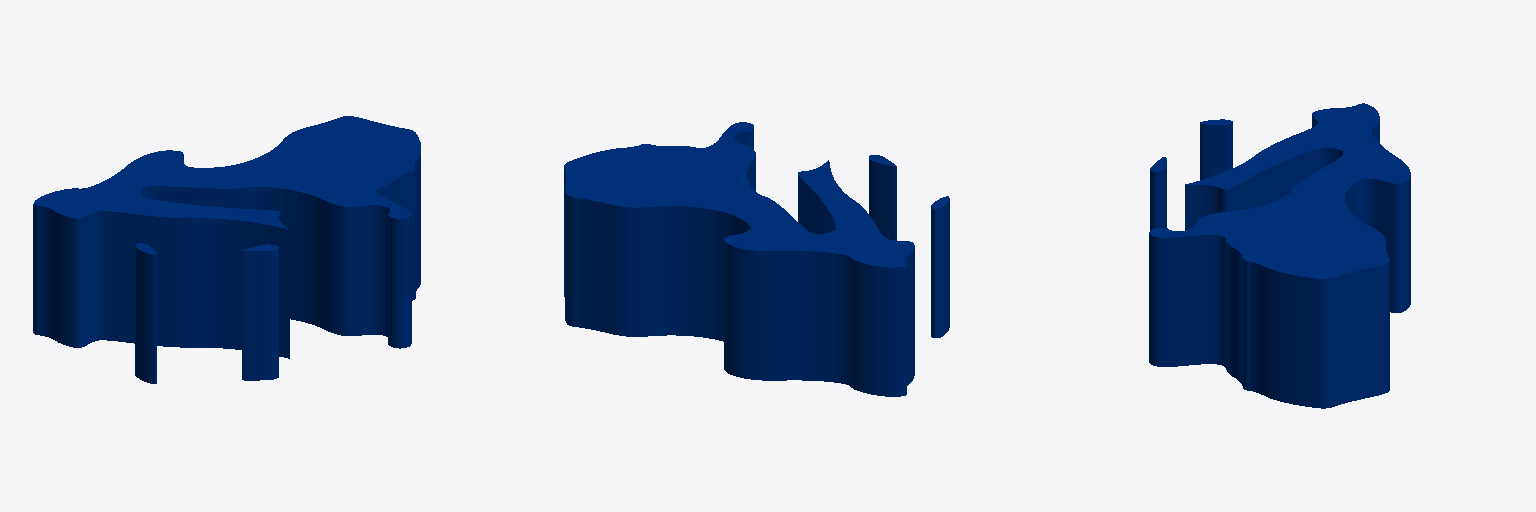
File: Europe_05.obj
The picture shows the model from 3 angles: view 1: azimuth 30°, elevation 25°; view 2: azimuth 150°, elevation 25°; view 3: azimuth 270°, elevation 25°; orthographic projection.
Visible parts, largest first — view 1: Europe_05_path4242; view 2: Europe_05_path4242; view 3: Europe_05_path4242.
Part boxes in pixels (left/top/right/bottom): Europe_05_path4242: left=33, top=116, right=420, bottom=383; Europe_05_path4242: left=564, top=122, right=949, bottom=396; Europe_05_path4242: left=1149, top=103, right=1410, bottom=408.
Bounding box in the file's own units: 0.2915 × 0.1 × 0.1832.